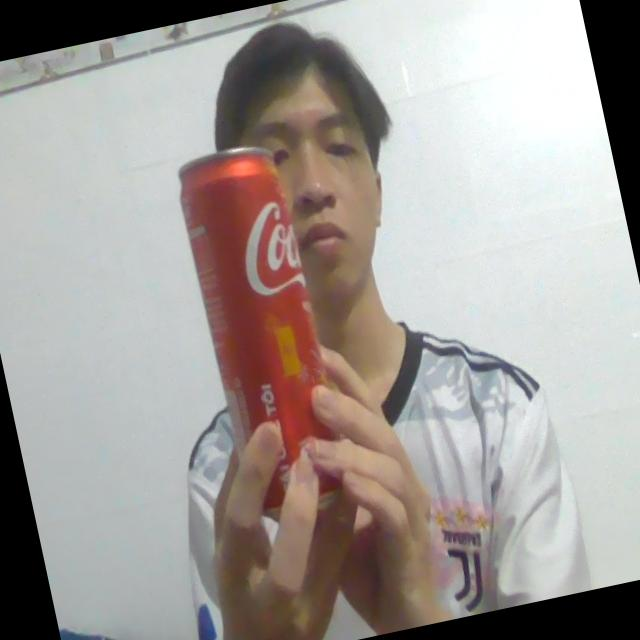cocacola: (158, 127, 378, 535)
